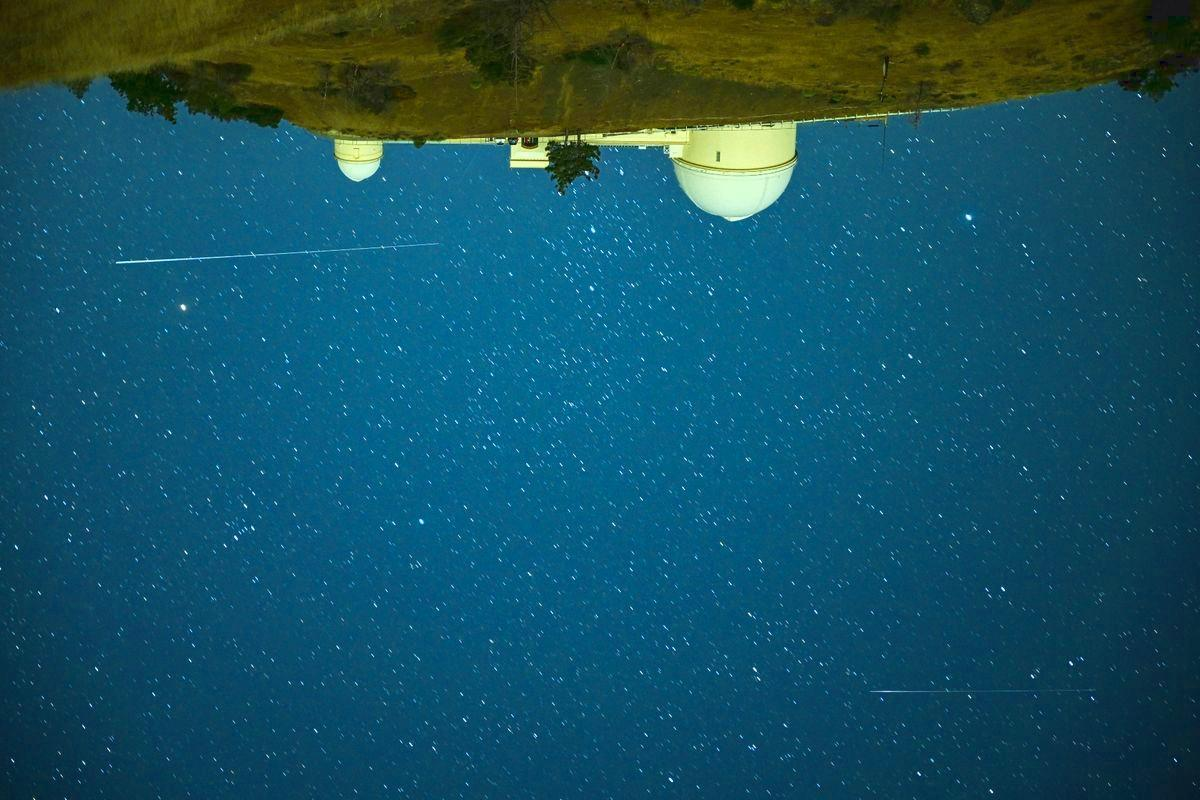meteorite: (89, 244, 428, 289), (859, 671, 1098, 713)
